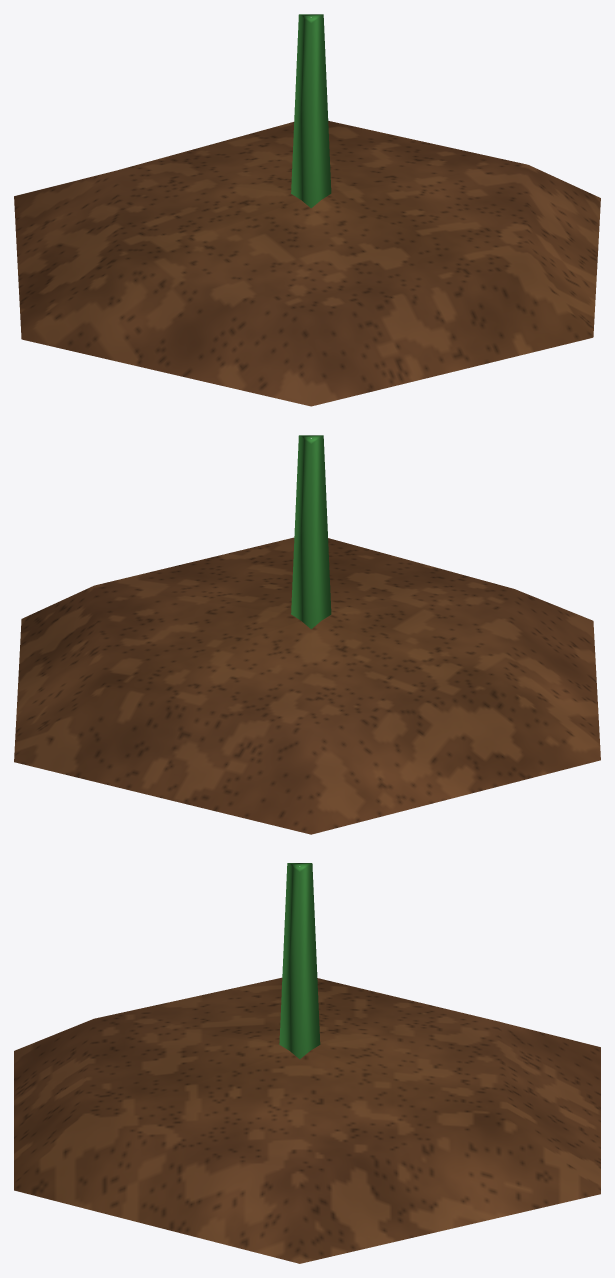
Rendered from plant-strawberry-3-far.glb.
3 views of the same model, one above another, from view 1: azimuth 30°, elevation 25°; view 2: azimuth 150°, elevation 25°; view 3: azimuth 270°, elevation 25° (orthographic).
Visible parts, largest first — view 1: plant-strawberry-3-far; view 2: plant-strawberry-3-far; view 3: plant-strawberry-3-far.
Boxes of the visible parts, box(x1,y1,x2,y2) form: plant-strawberry-3-far: box(14, 14, 600, 406); plant-strawberry-3-far: box(14, 435, 600, 834); plant-strawberry-3-far: box(14, 863, 600, 1263).
Bounding box in the file's own units: 0.84 × 0.3481 × 0.7275.
Materials: 3 (1 with a texture image).
